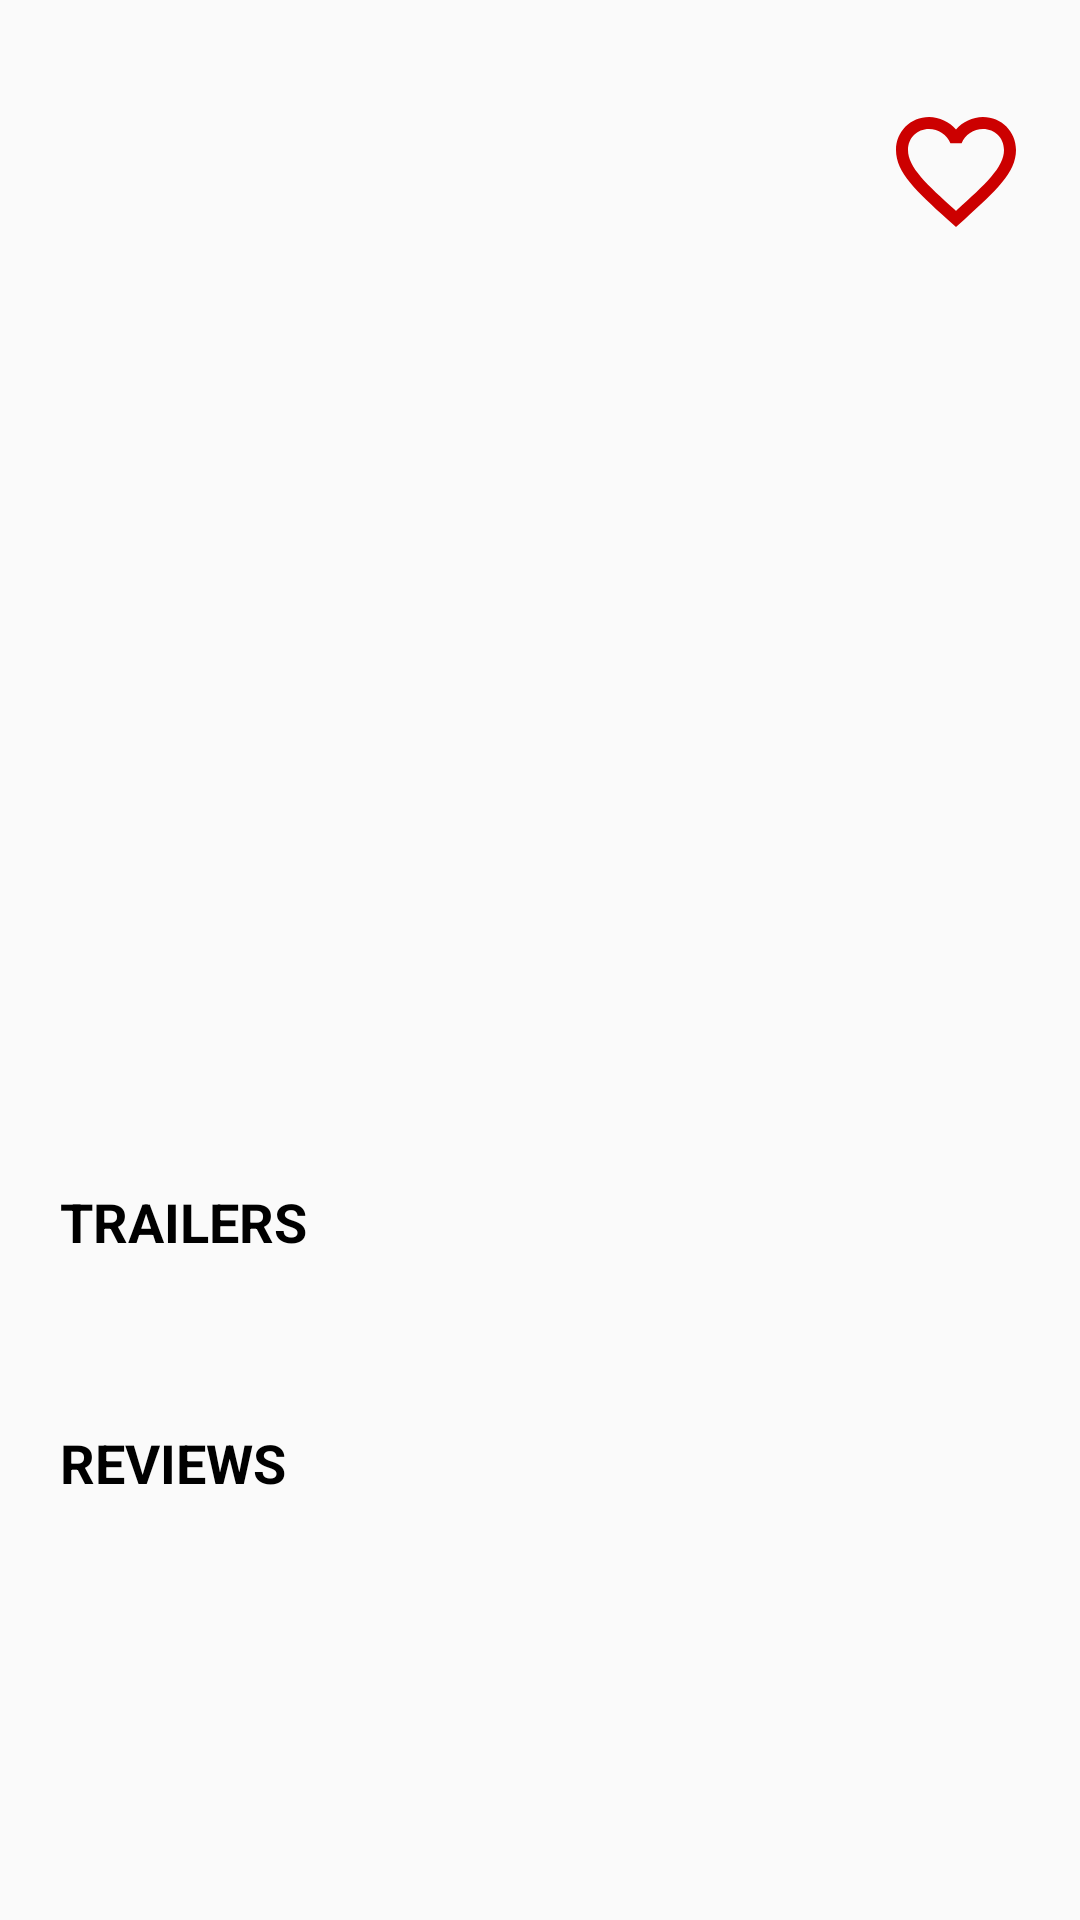

Icons on this 1080×1920 Android screen, each with its box as region(x1, y1, x2, y2):
favorite border: region(896, 117, 1016, 227)
